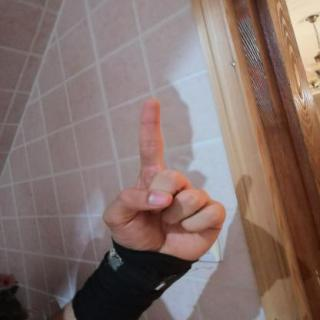BAA: (93, 91, 233, 267)
